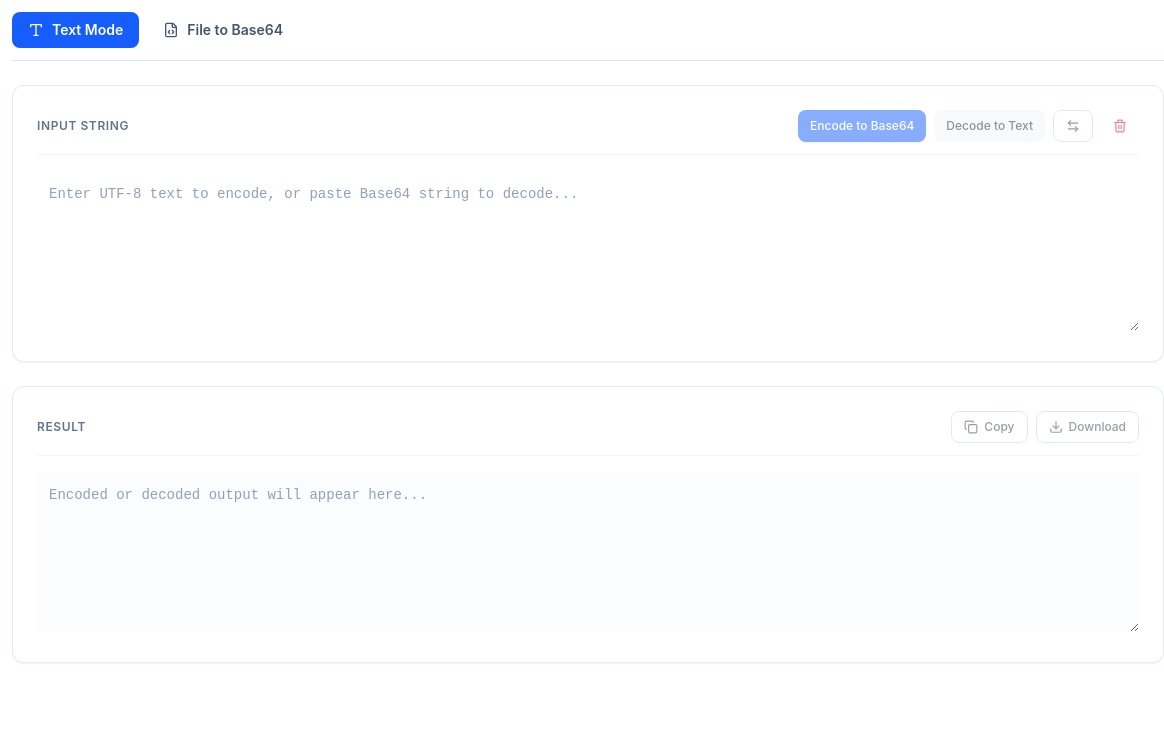
Test case: TEXT & DEVELOPER TOOLS (8/8) › Base64 Tool › invalid: gracefully reports invalid Base64 decoding attempts
Step 1. Replace the text in the text box named "base64 text input" with "!!!Not-A-Base64-String!!!" → (588, 251), box 37,171 -> 1139,331
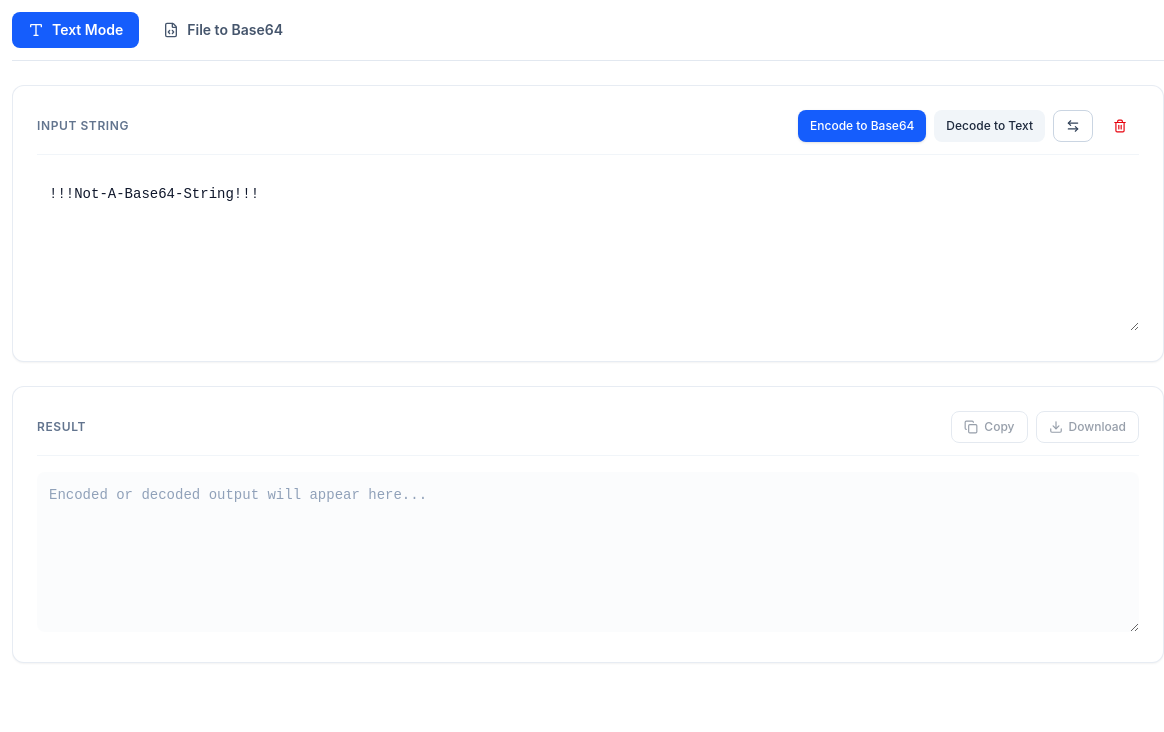
Step 2. Click the button "Decode to Text" → (990, 126), box 934,110 -> 1045,142
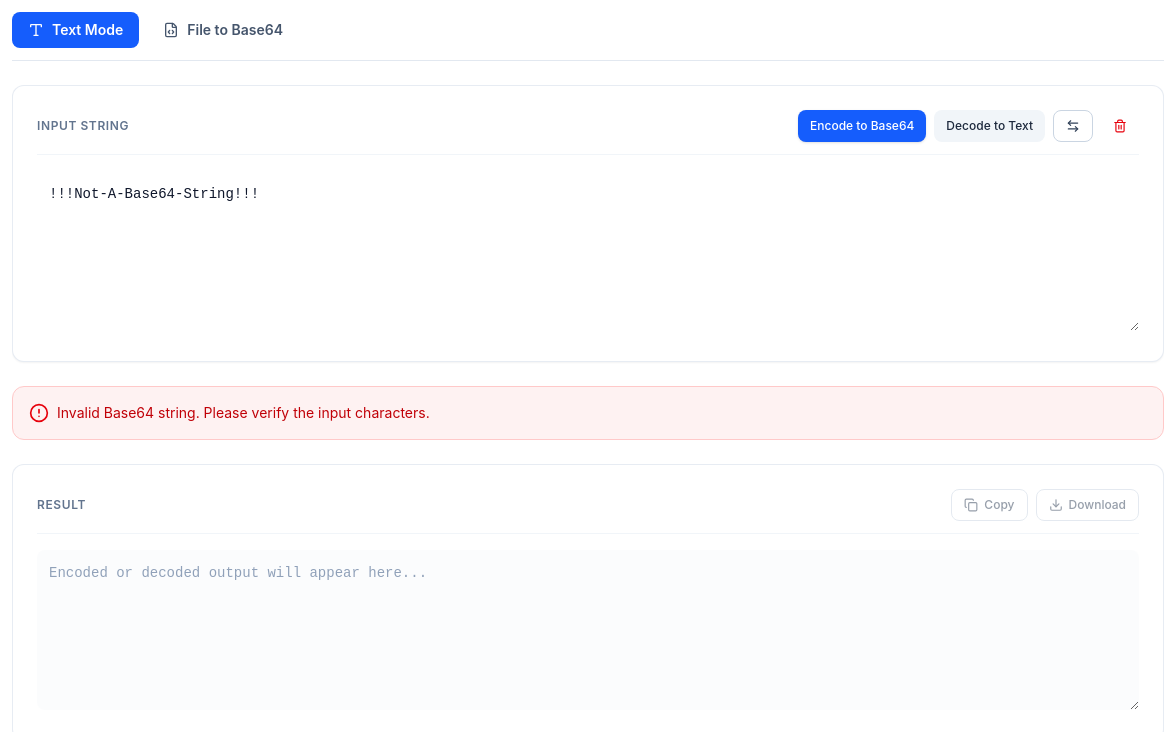
Check: the text "Invalid Base64 string. Please verify the input characters." is shown, box 57,403 -> 430,423
